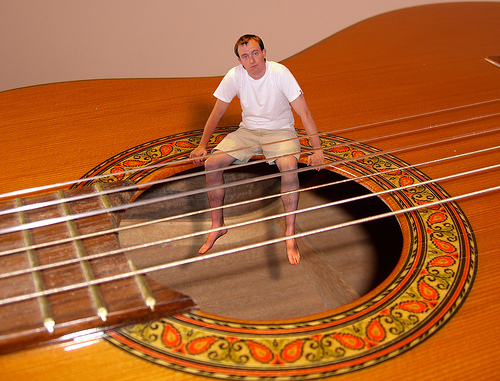guitar: (1, 1, 500, 381)
